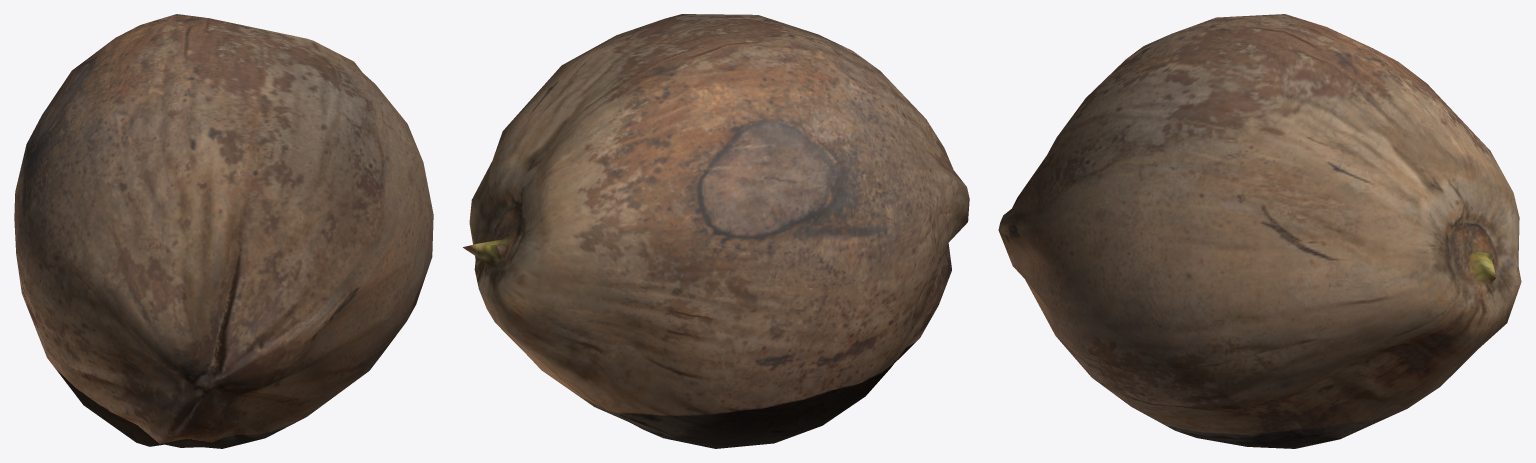
The model's file is Obstacle_three.fbx.
The picture shows the model from 3 angles, left to right: view 1: azimuth 30°, elevation 25°; view 2: azimuth 150°, elevation 25°; view 3: azimuth 270°, elevation 25°; orthographic projection. The views are drawn at different scales.
Visible parts, largest first — view 1: Palme.002; view 2: Palme.002; view 3: Palme.002.
Part boxes in pixels (left/top/right/bottom): Palme.002: left=14, top=14, right=433, bottom=448; Palme.002: left=463, top=14, right=969, bottom=448; Palme.002: left=998, top=14, right=1521, bottom=448.
Bounding box in the file's own units: 20.7 × 20.29 × 24.06.
